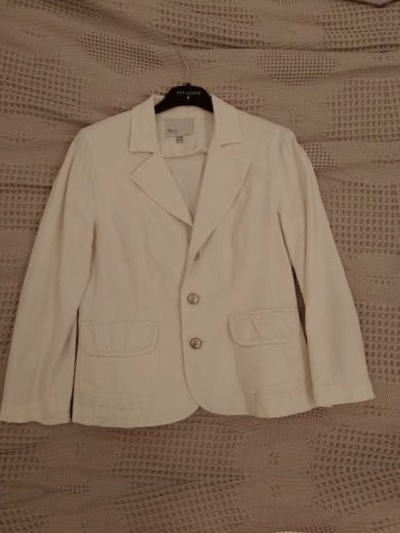Blazer: (0, 53, 389, 452), (0, 511, 400, 533)
